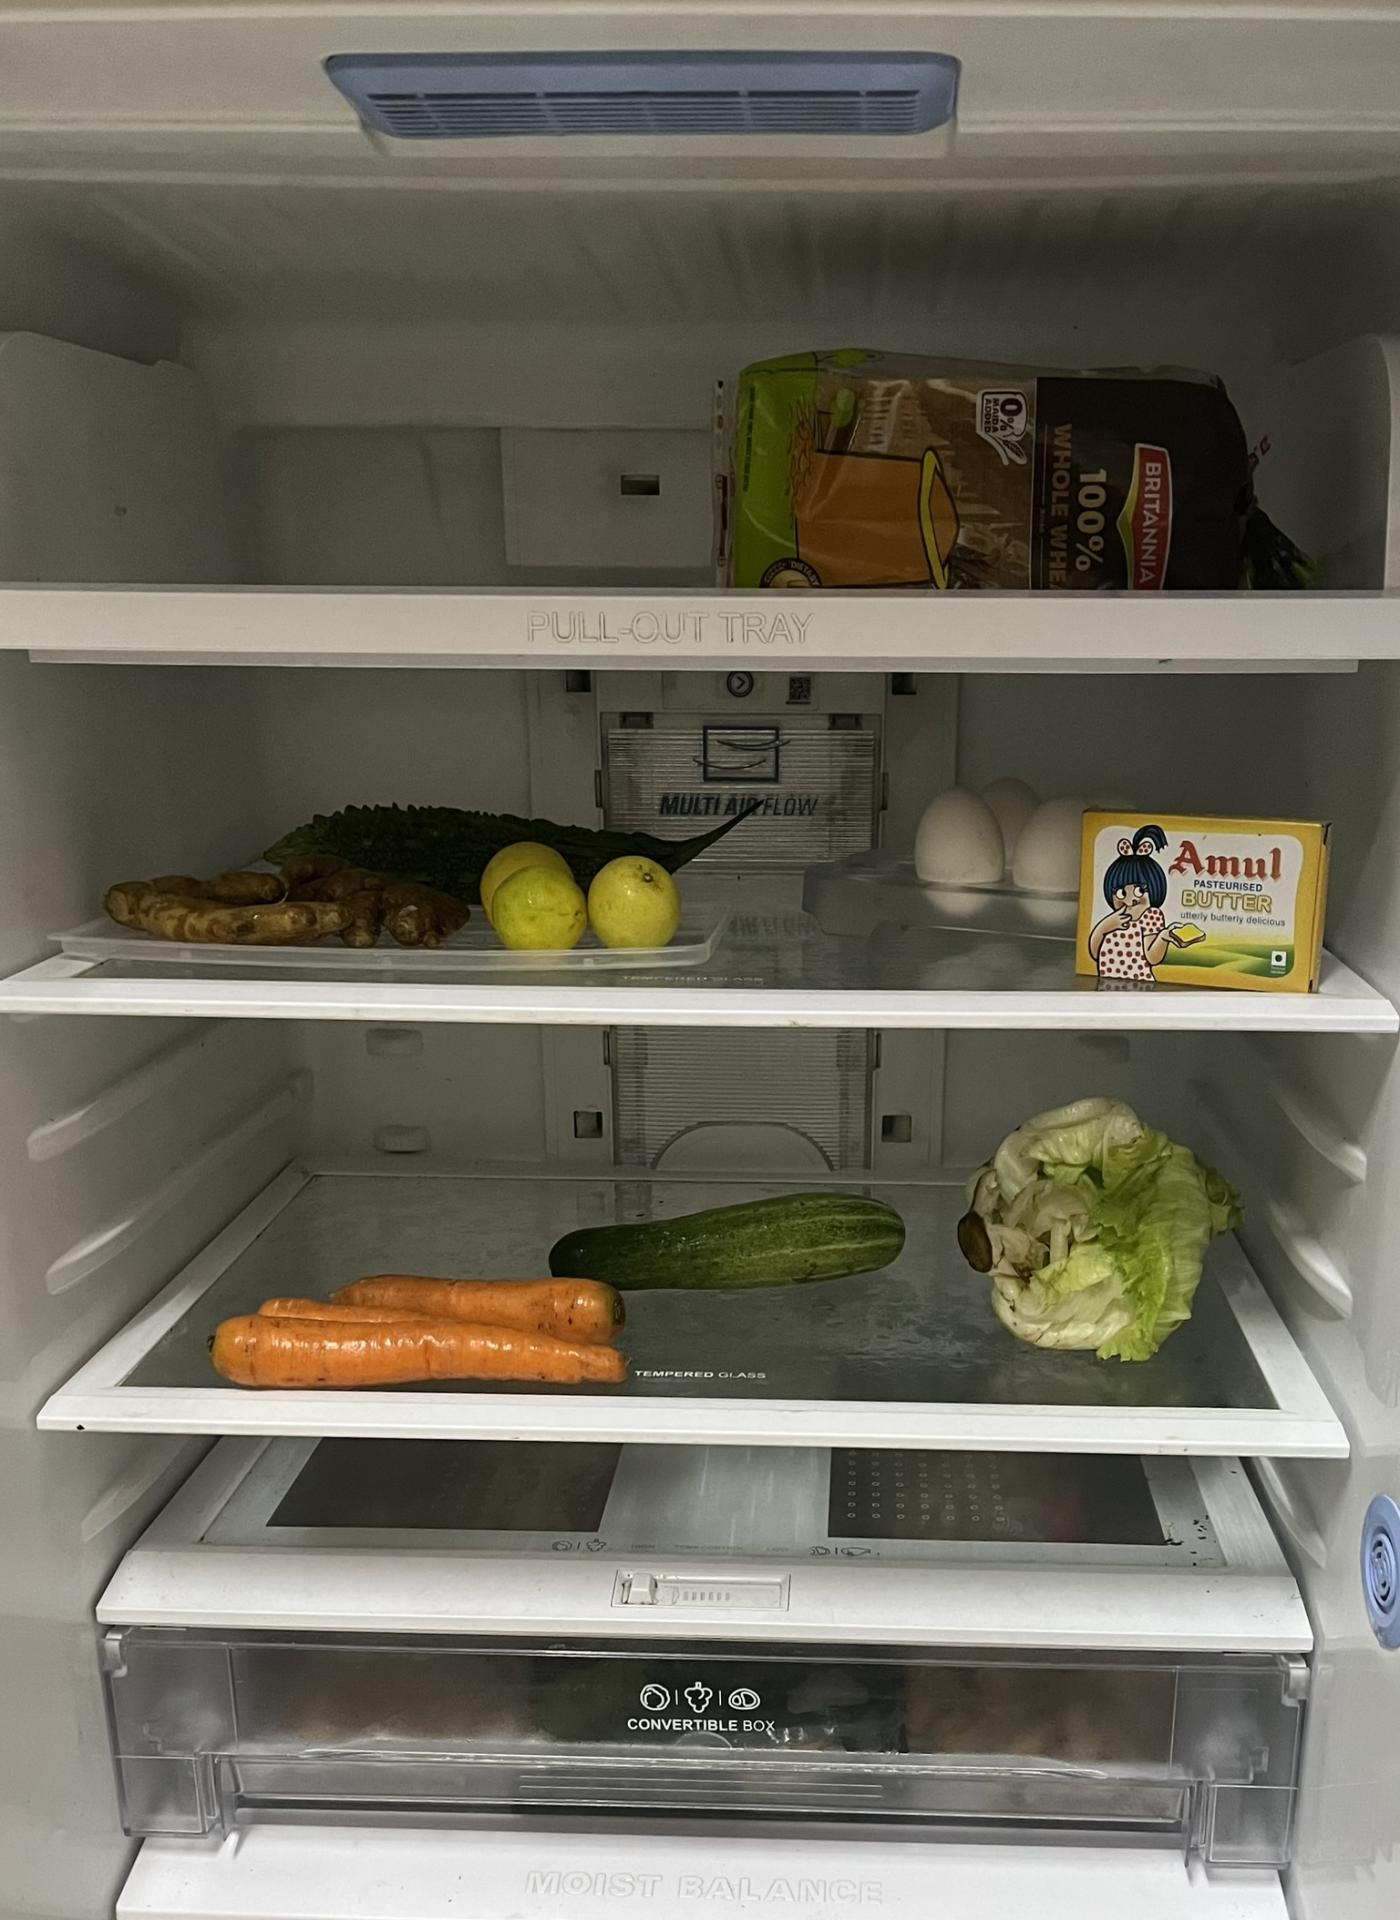bread: (695, 334, 1282, 584)
butter: (1079, 812, 1322, 981)
cabbage: (210, 1282, 635, 1370)
cucumber: (538, 1191, 905, 1297)
egg: (921, 771, 1094, 897)
ginger: (104, 803, 584, 954)
lemon: (485, 847, 681, 954)
lettuce: (963, 1075, 1209, 1351)
